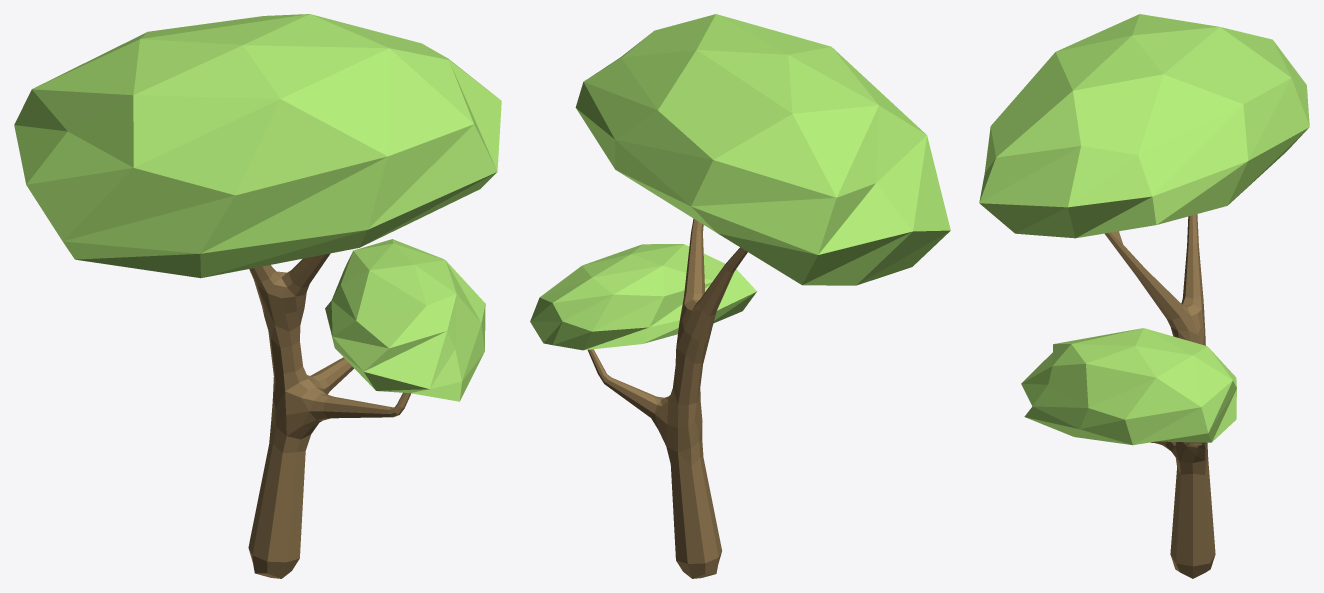
The model's file is tree_gh.glb.
The picture shows the model from 3 angles, left to right: view 1: azimuth 30°, elevation 25°; view 2: azimuth 150°, elevation 25°; view 3: azimuth 270°, elevation 25°; orthographic projection. The views are drawn at different scales.
Bounding box in the file's own units: 717 × 923 × 540.
